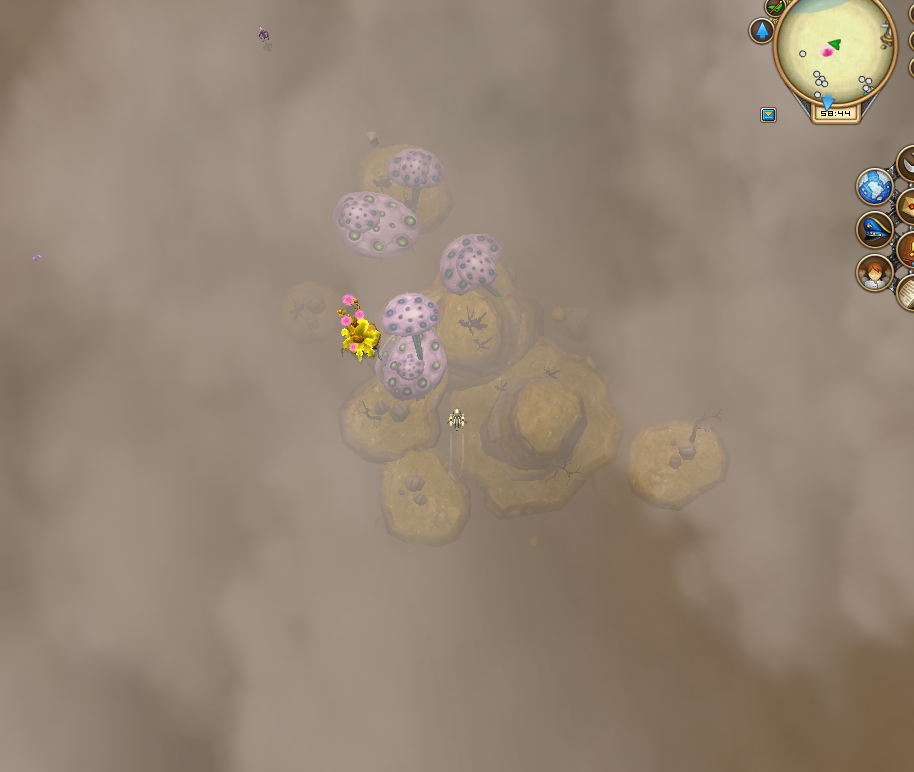dandelion-full: (324, 287, 384, 371)
